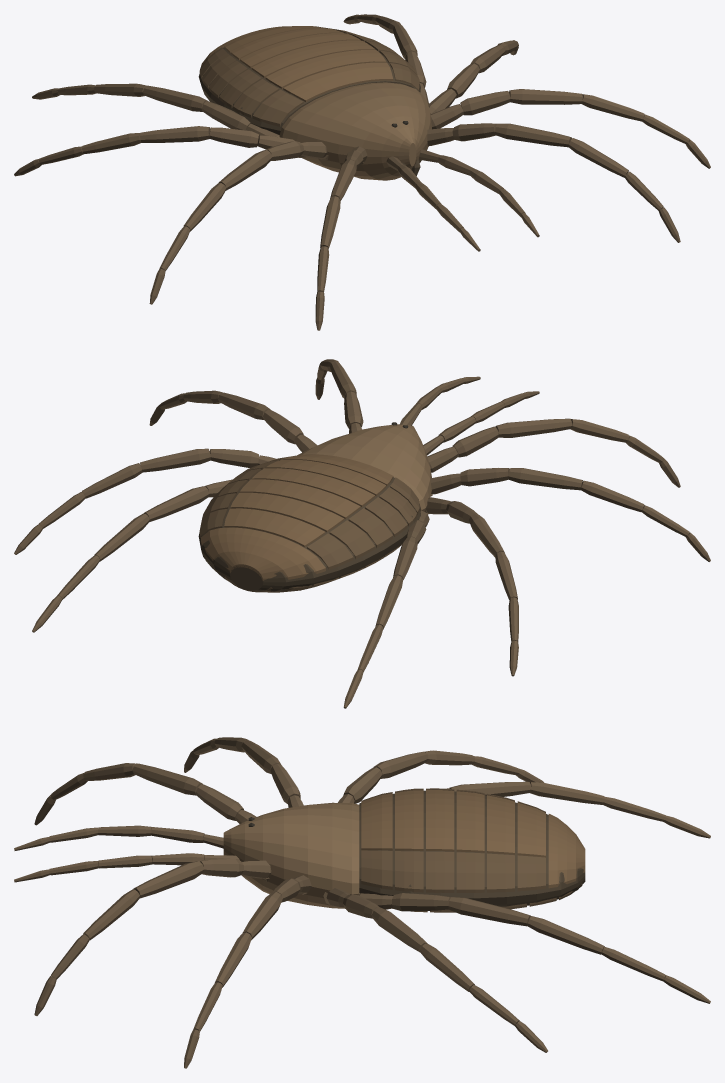
The picture shows the model from 3 angles, top to bottom: view 1: azimuth 30°, elevation 25°; view 2: azimuth 150°, elevation 25°; view 3: azimuth 270°, elevation 25°; orthographic projection. The views are drawn at different scales.
Visible parts, largest first — view 1: export_legs, export_carapace, export_dorsal_cuticle, export_lateral_cuticle, export_ventral_cuticle; view 2: export_legs, export_dorsal_cuticle, export_lateral_cuticle, export_carapace, export_ventral_cuticle; view 3: export_legs, export_dorsal_cuticle, export_carapace, export_lateral_cuticle, export_ventral_cuticle.
Boxes of the visible parts, x1,y1,x2,y2 form: export_legs: [14, 14, 710, 330]; export_carapace: [279, 82, 431, 180]; export_dorsal_cuticle: [201, 26, 393, 101]; export_lateral_cuticle: [199, 26, 419, 126]; export_ventral_cuticle: [198, 47, 420, 175]; export_legs: [14, 359, 710, 708]; export_dorsal_cuticle: [201, 454, 393, 580]; export_lateral_cuticle: [199, 454, 419, 592]; export_carapace: [297, 424, 431, 511]; export_ventral_cuticle: [198, 467, 420, 591]; export_legs: [14, 737, 710, 1068]; export_dorsal_cuticle: [361, 790, 585, 888]; export_carapace: [223, 802, 359, 908]; export_lateral_cuticle: [361, 788, 582, 912]; export_ventral_cuticle: [359, 790, 585, 911].
Size of the model in its own units: 0.00234 by 0.000402 by 0.00231.
